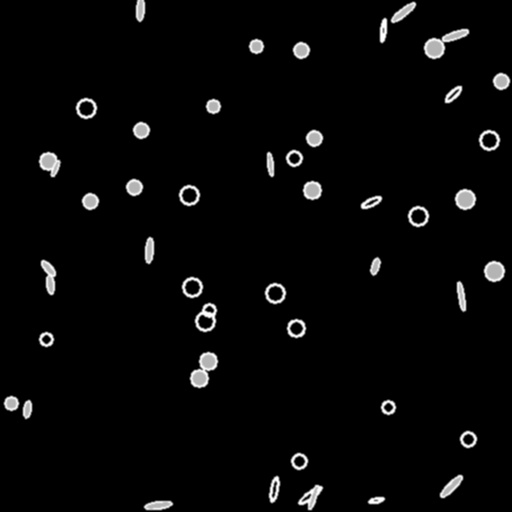pseudomonas: (389, 0, 417, 24), (439, 474, 463, 498), (297, 485, 323, 505), (442, 28, 468, 42), (443, 85, 463, 103), (39, 259, 57, 277), (307, 484, 319, 510), (144, 500, 172, 510), (361, 195, 381, 209), (456, 282, 466, 310), (269, 477, 279, 501), (369, 257, 381, 275), (145, 238, 153, 262), (379, 18, 387, 42), (266, 153, 274, 175), (50, 160, 60, 176), (136, 0, 144, 20), (46, 274, 54, 294), (23, 400, 31, 418), (368, 496, 384, 504)
synechocystis: (77, 99, 95, 117), (196, 312, 214, 330), (485, 262, 503, 280), (180, 186, 198, 204), (425, 39, 443, 57), (266, 284, 284, 302), (480, 131, 498, 149), (456, 190, 474, 208), (409, 207, 427, 225), (183, 278, 201, 296), (288, 320, 304, 336), (200, 353, 216, 369), (191, 370, 207, 386), (304, 182, 320, 198), (40, 153, 56, 169), (461, 432, 475, 446), (127, 180, 141, 194), (307, 131, 321, 145), (292, 454, 306, 468), (83, 194, 97, 208), (134, 123, 148, 137), (294, 43, 308, 57), (494, 74, 508, 88), (287, 151, 301, 165), (5, 397, 17, 409), (382, 401, 394, 413), (207, 100, 219, 112), (40, 333, 52, 345), (203, 304, 215, 316), (250, 40, 262, 52)
